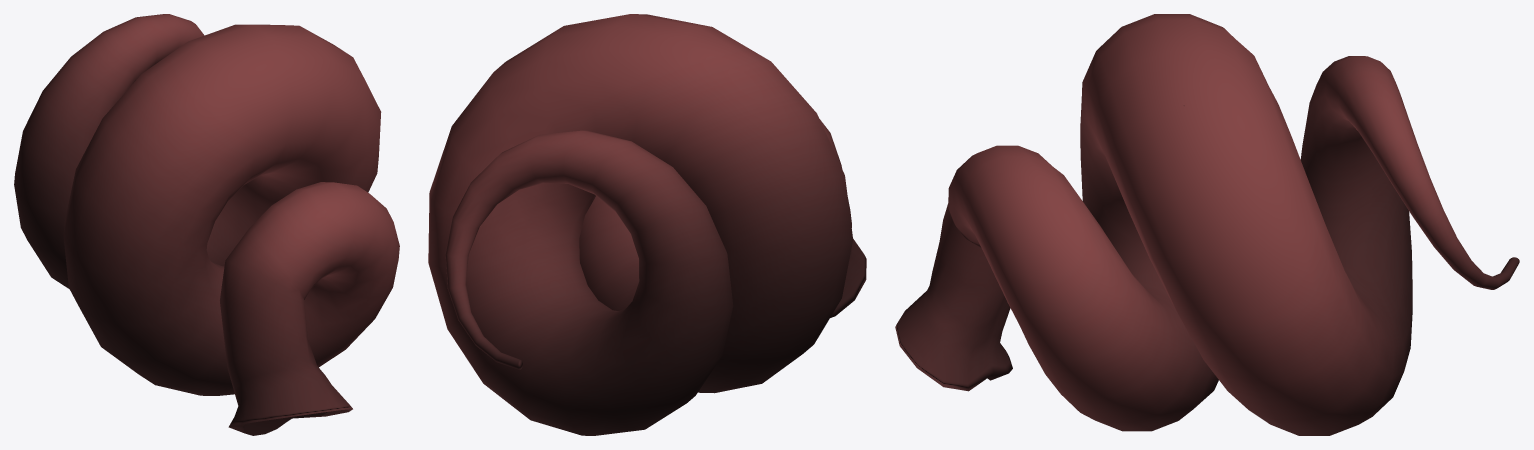
Rendered from spiral.glb.
The picture shows the model from 3 angles, left to right: view 1: azimuth 30°, elevation 25°; view 2: azimuth 150°, elevation 25°; view 3: azimuth 270°, elevation 25°; orthographic projection. The views are drawn at different scales.
Visible parts, largest first — view 1: t_spiral5; view 2: t_spiral5; view 3: t_spiral5.
Part boxes in pixels (bbox=[...]): t_spiral5: bbox=[14, 14, 399, 435]; t_spiral5: bbox=[428, 14, 866, 435]; t_spiral5: bbox=[895, 14, 1519, 435].
Size of the model in its own units: 0.0872 by 0.0834 by 0.1218.
1 material, 1 textured.
